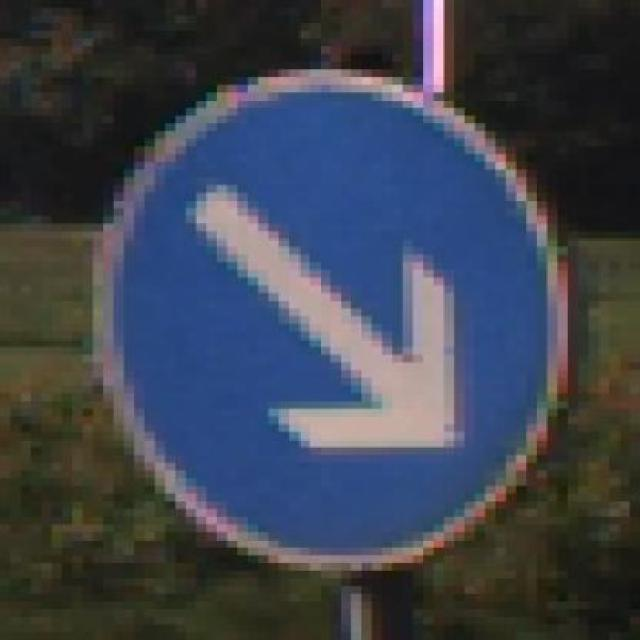Keep-Right: (72, 46, 610, 586)
